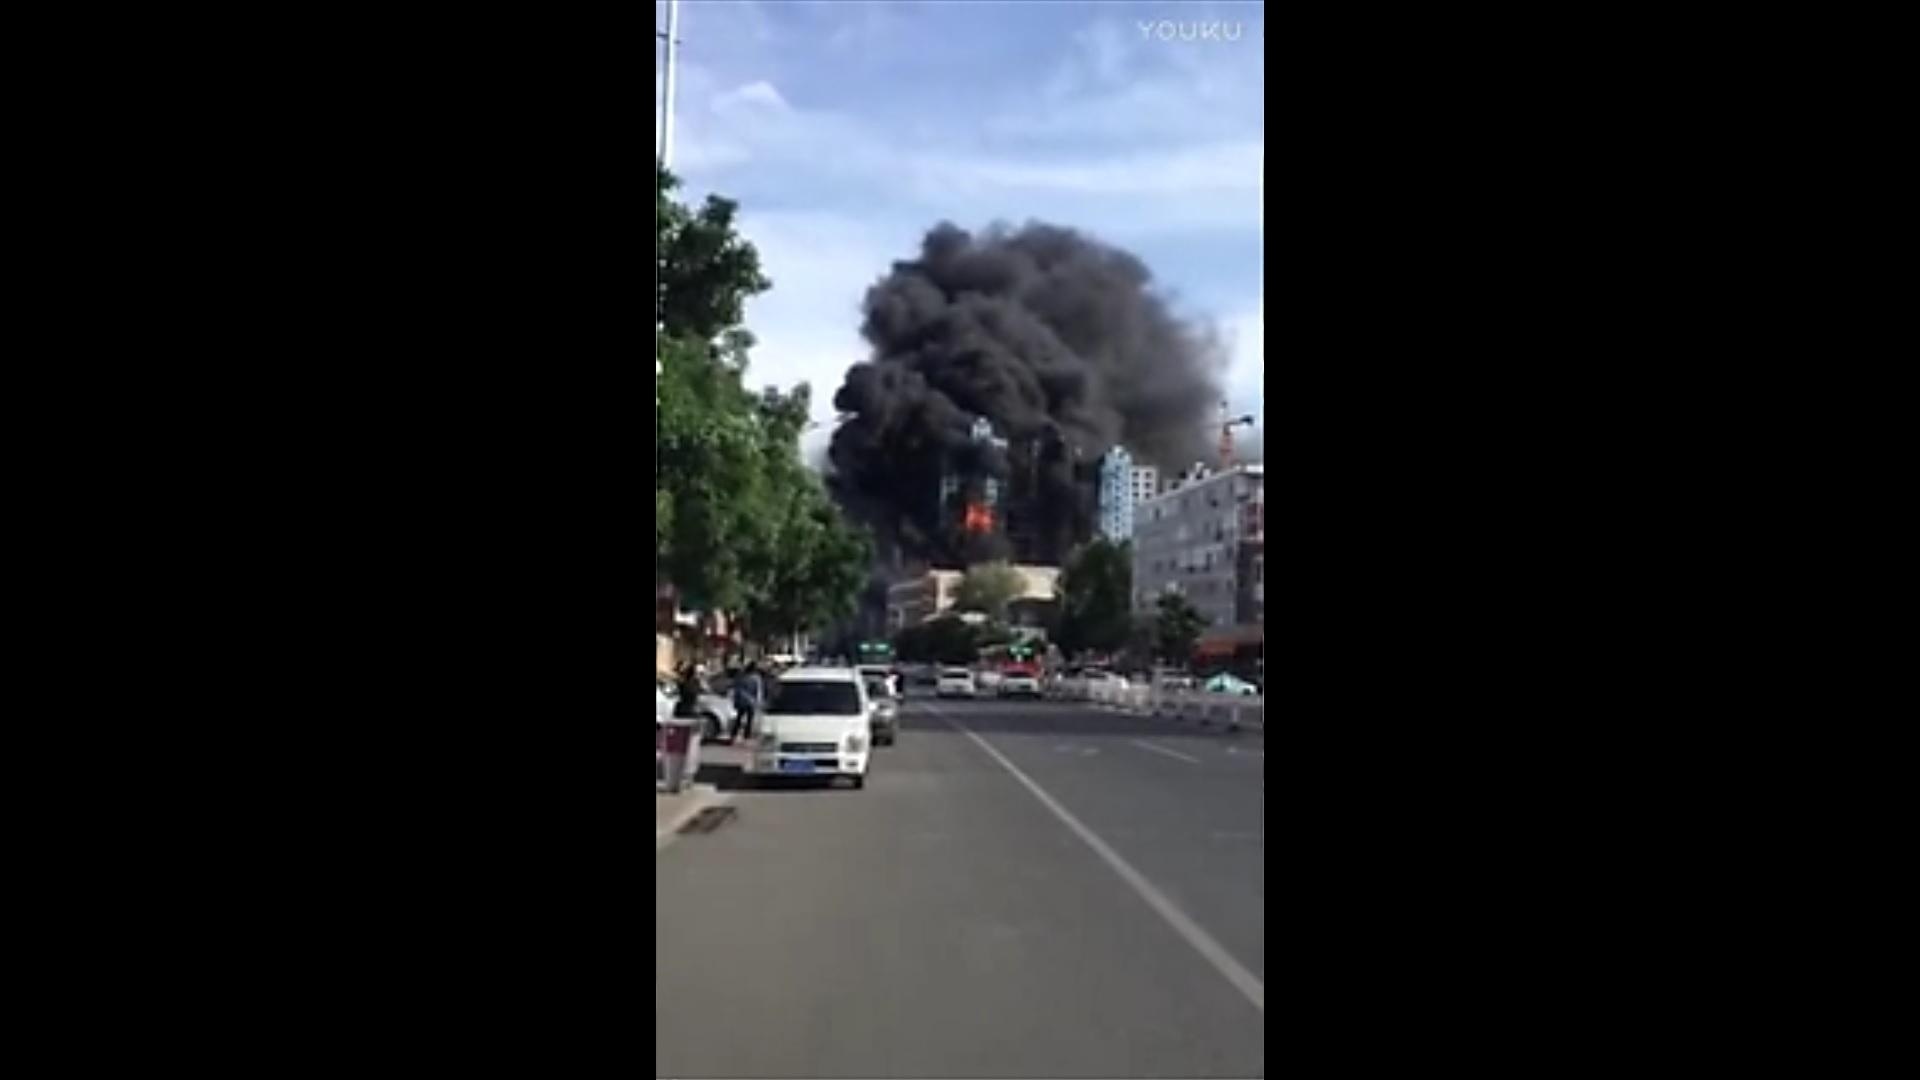fire: (963, 498, 993, 529)
